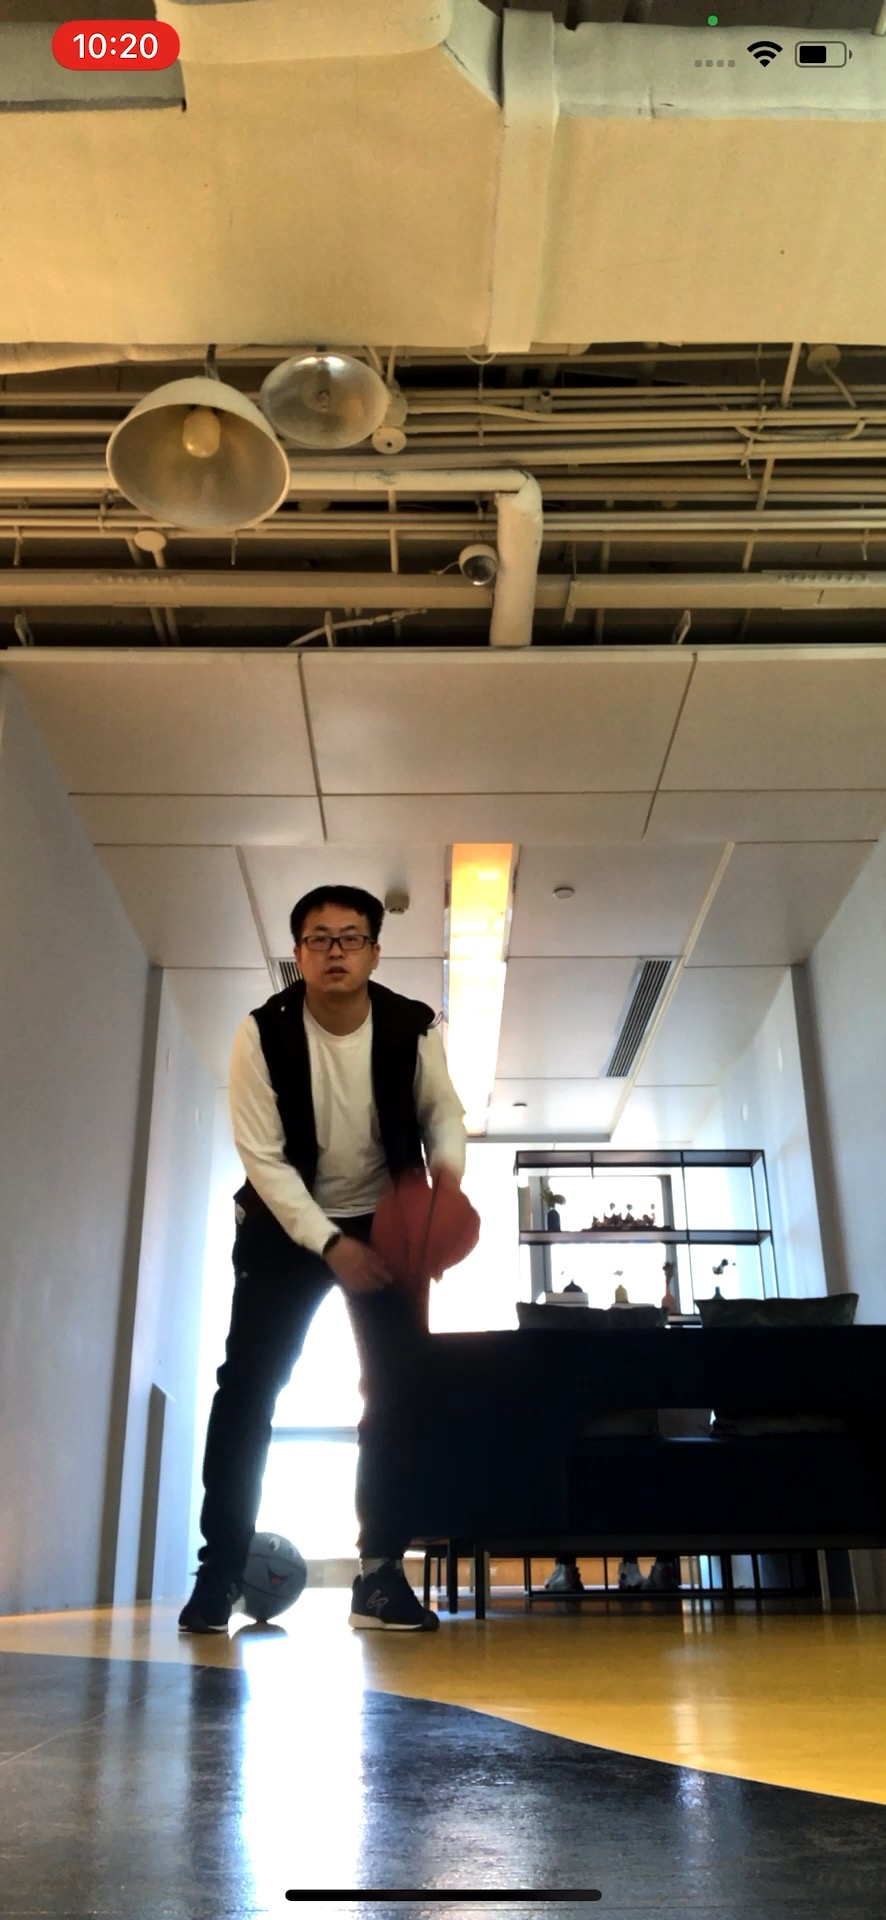ball: (370, 1174, 478, 1282), (241, 1529, 306, 1619)
